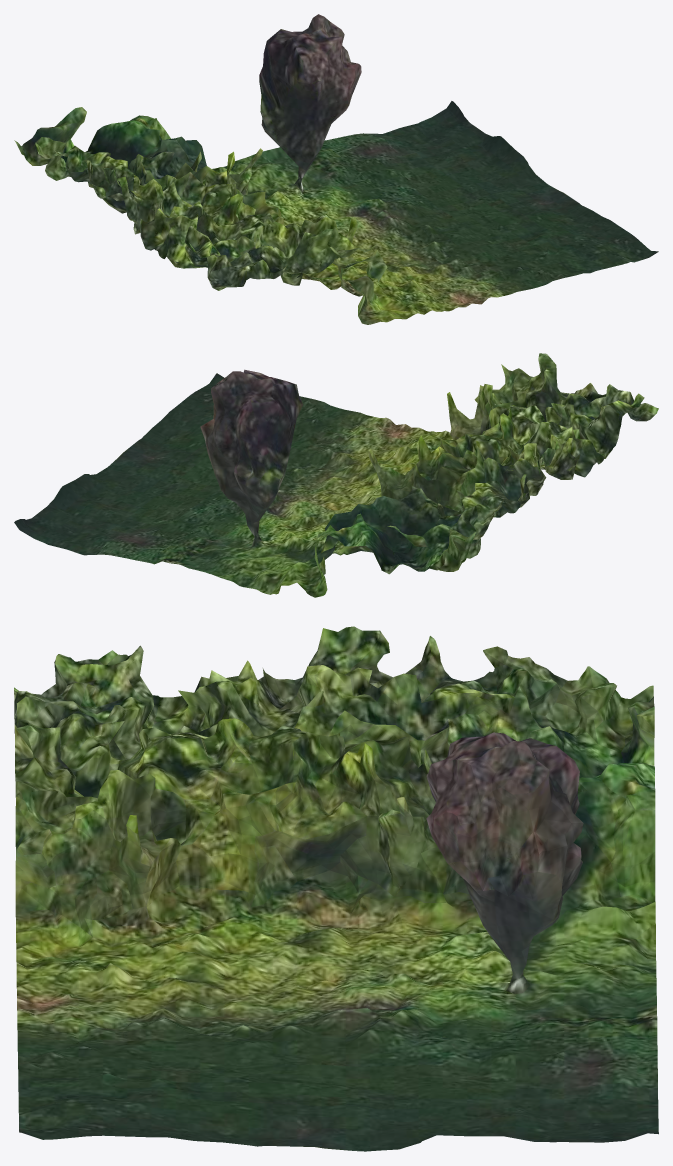
The model's file is Tile_+006_+007_L22_0001330.glb.
The picture shows the model from 3 angles, top to bottom: view 1: azimuth 30°, elevation 25°; view 2: azimuth 150°, elevation 25°; view 3: azimuth 270°, elevation 25°; orthographic projection. The views are drawn at different scales.
Visible parts, largest first — view 1: rtc; view 2: rtc; view 3: rtc.
Part boxes in pixels (x1,y1,x2,y2): rtc: [14, 14, 658, 324]; rtc: [14, 353, 658, 597]; rtc: [14, 626, 658, 1151].
Size of the model in its own units: 8.86 by 3.41 by 7.18.
Materials: 1 (1 with a texture image).
